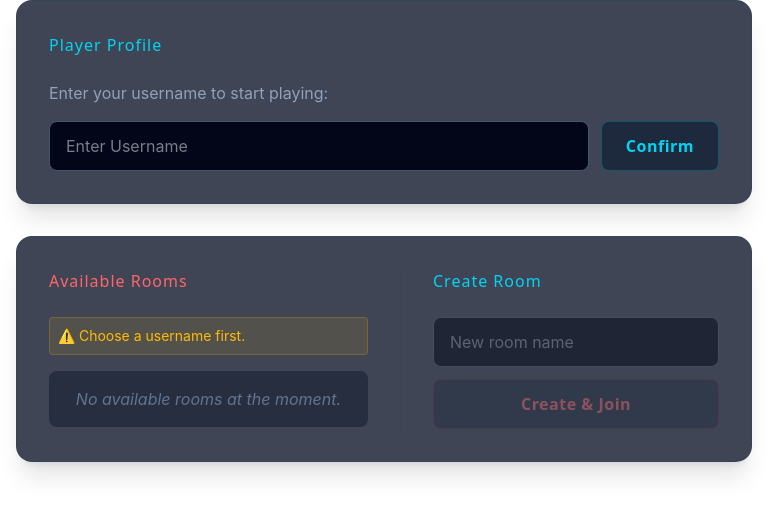
Test: Frontpage: username › validates the username before sending it
Click the button "Confirm". click: (660, 146)
box: [601, 121, 719, 171]
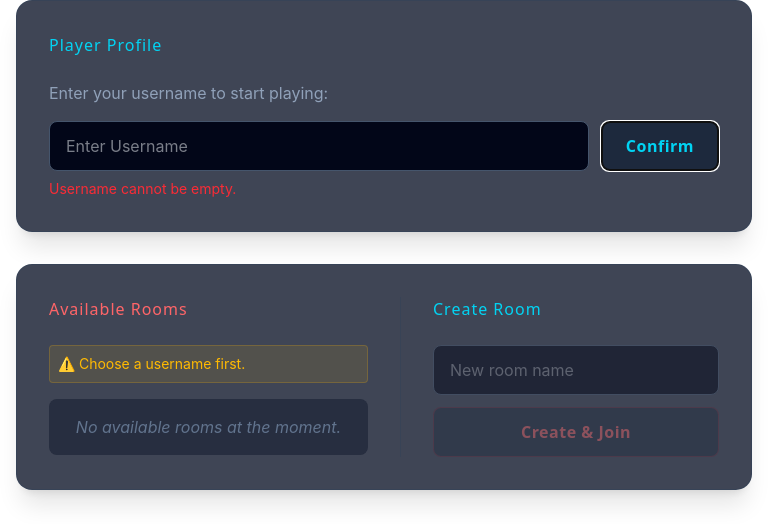
Result: the text "Username cannot be empty." is shown at [49, 180, 236, 197]
Type "bad name" into the field with placeholder "Enter Username". click: (319, 146)
box: [49, 121, 589, 171]
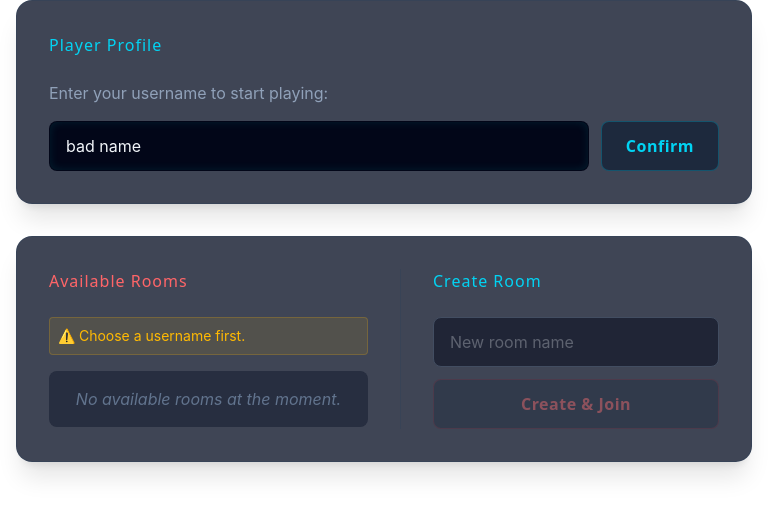
Result: the text "Username cannot be empty." is gone
Click the button "Confirm". click: (660, 146)
box: [601, 121, 719, 171]
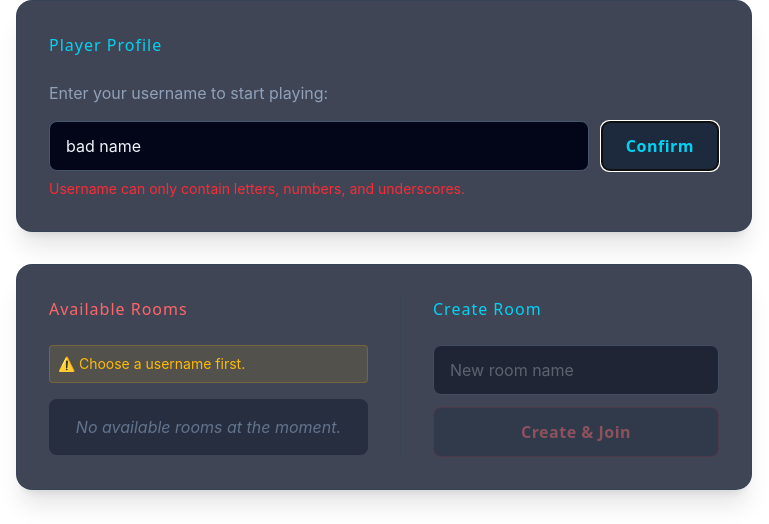
Result: the text "Username can only contain letters, numbers, and underscores." is shown at [49, 180, 465, 197]
